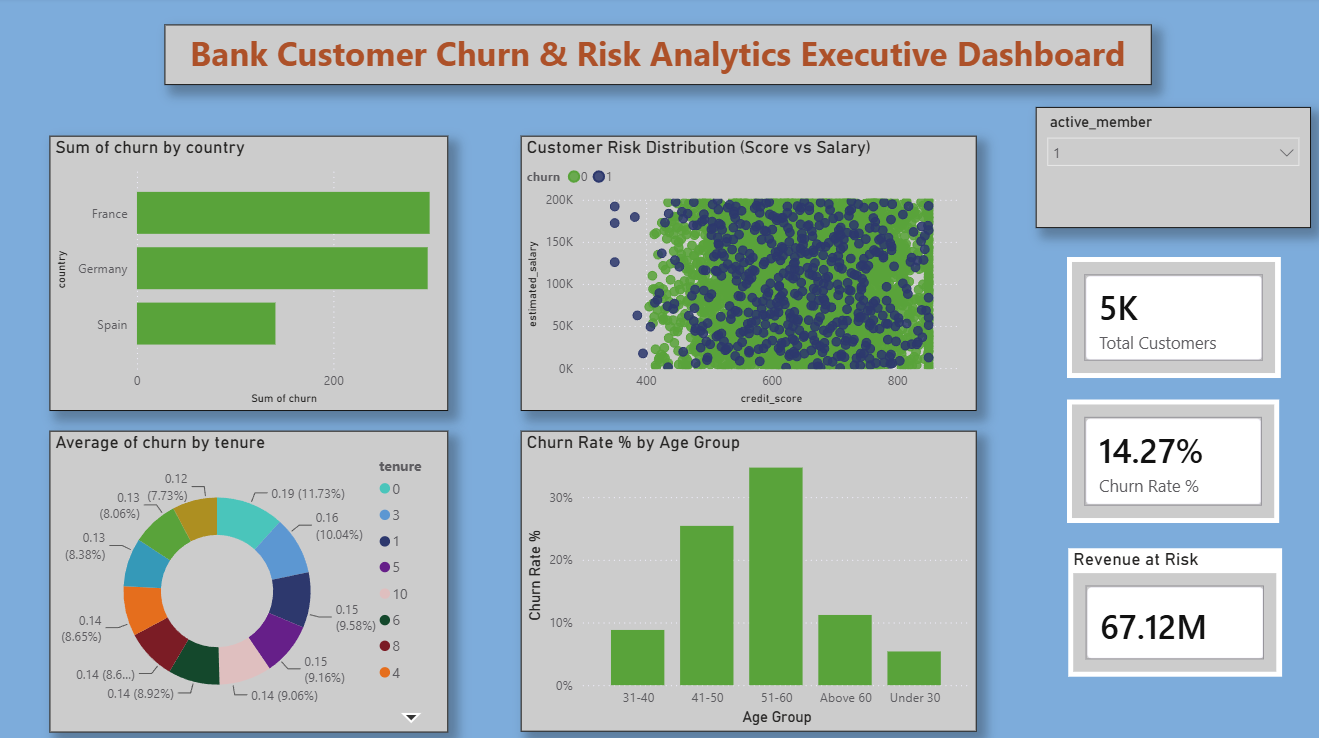

This screenshot's page, from the dashboard's own definition file:
{"tool":"powerbi","page":{"name":"Page 1","canvas":[1280,720],"ordinal":0},"visuals":[{"type":"cardVisual","fields":{"Data":["final_bank_churn_data.Churn Rate %"]},"box":[1032.7,388.5,205.1,119.4],"z":0},{"type":"cardVisual","fields":{"Data":["final_bank_churn_data.Total Customers"]},"box":[1032.7,250.9,206.3,117],"z":1000},{"type":"clusteredBarChart","fields":{"Category":["final_bank_churn_data.country"],"Y":["Sum(final_bank_churn_data.churn)"]},"box":[50.1,134.5,385.2,265.4],"z":2000},{"type":"donutChart","fields":{"Category":["age.tenure"],"Y":["Avg(age.churn)"]},"box":[50.1,418.2,385.2,291],"z":3000},{"type":"slicer","fields":{"Values":["final_bank_churn_data.active_member"]},"box":[1002.6,106.2,265.4,117],"z":4000},{"type":"textbox","box":[161.4,26.9,952.6,58.7],"z":5000},{"type":"clusteredColumnChart","fields":{"Category":["age.Age Group"],"Y":["age.Churn Rate %"]},"box":[505.5,418.6,440.4,290.8],"z":6000},{"type":"cardVisual","title":"Revenue at Risk","fields":{"Data":["Sum(age.balance)"]},"box":[1033.9,532,206.3,124.3],"z":7000},{"type":"scatterChart","title":"Customer Risk Distribution (Score vs Salary)","fields":{"X":["age.credit_score"],"Y":["age.estimated_salary"],"Series":["age.churn"]},"box":[505.5,133.9,440.4,265.4],"z":8000}]}

Visuals, with their boxes in screenshot pixels (x1, y1, x2, y2), scaled from the page's 1280x720 canvas onto the 1319x738 screenshot:
cardVisual - final_bank_churn_data.Churn Rate %: [1064,398,1276,521]
cardVisual - final_bank_churn_data.Total Customers: [1064,257,1277,377]
clusteredBarChart - final_bank_churn_data.country x Sum(final_bank_churn_data.churn): [52,138,449,410]
donutChart - age.tenure x Avg(age.churn): [52,429,449,727]
slicer - final_bank_churn_data.active_member: [1033,109,1307,229]
textbox: [166,28,1148,88]
clusteredColumnChart - age.Age Group x age.Churn Rate %: [521,429,975,727]
"Revenue at Risk" cardVisual: [1065,545,1278,673]
"Customer Risk Distribution (Score vs Salary)" scatterChart: [521,137,975,409]
